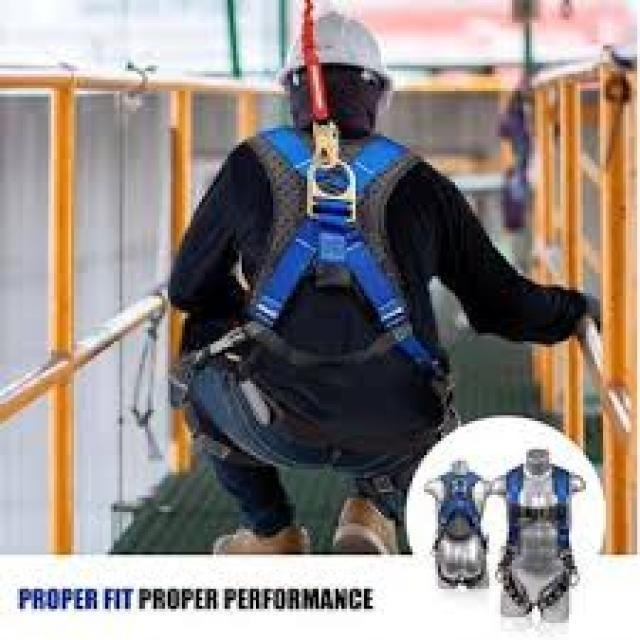Arnes_seguridad: (226, 122, 433, 397)
